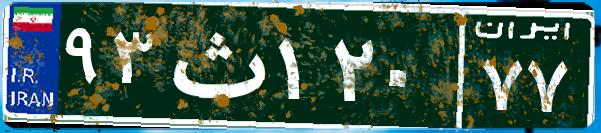0: (385, 28, 445, 110)
1: (273, 28, 330, 110)
2: (330, 28, 385, 110)
3: (110, 28, 158, 105)
7: (475, 38, 525, 113), (525, 38, 570, 115)
9: (57, 26, 110, 107)
ث: (158, 15, 273, 115)
